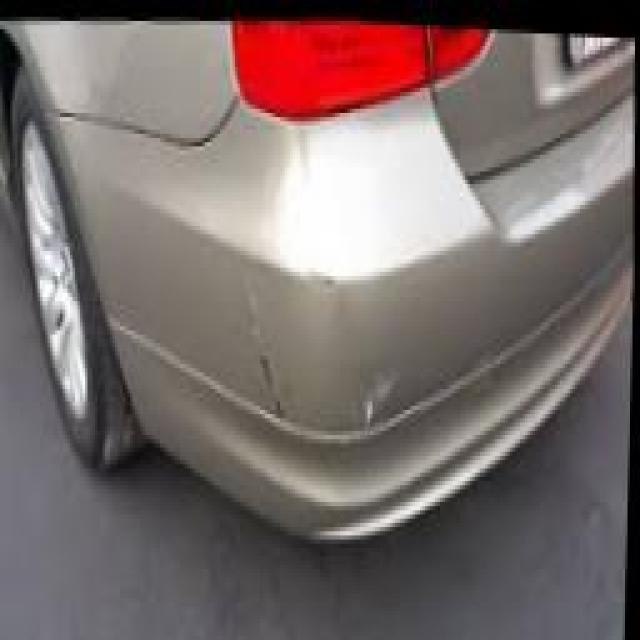Bumper: (225, 249, 415, 457)
